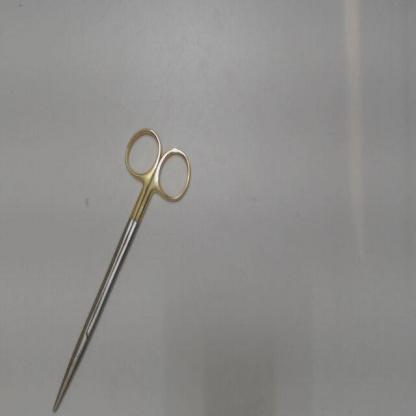7 Metzenbaum Scissors: (52, 121, 196, 415)
